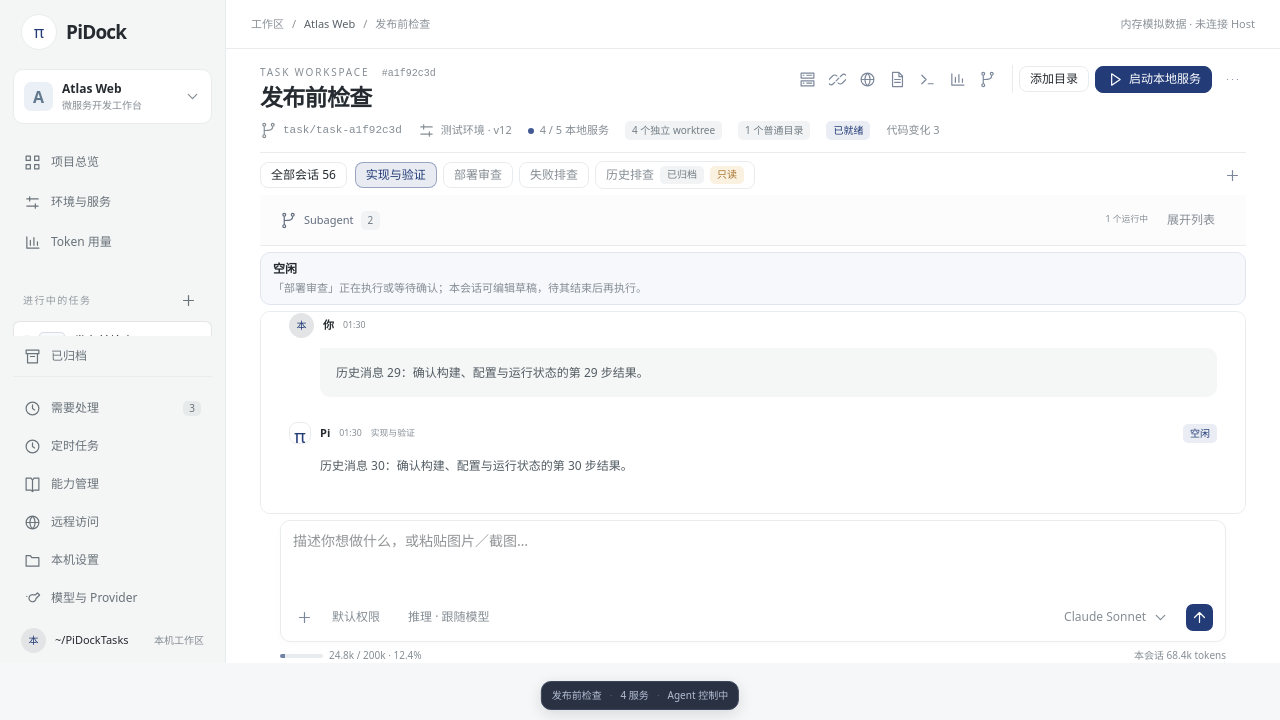
task header actionset › marks an open tool and the Subagent rail as pressed, and drives every local service
(page scrolled)
Expected: the heading "发布前检查" is shown, top-left (260, 81), bottom-right (372, 113)
Step 1. Click the button named "文件" → (898, 79), box top-left (884, 65), bottom-right (912, 93)
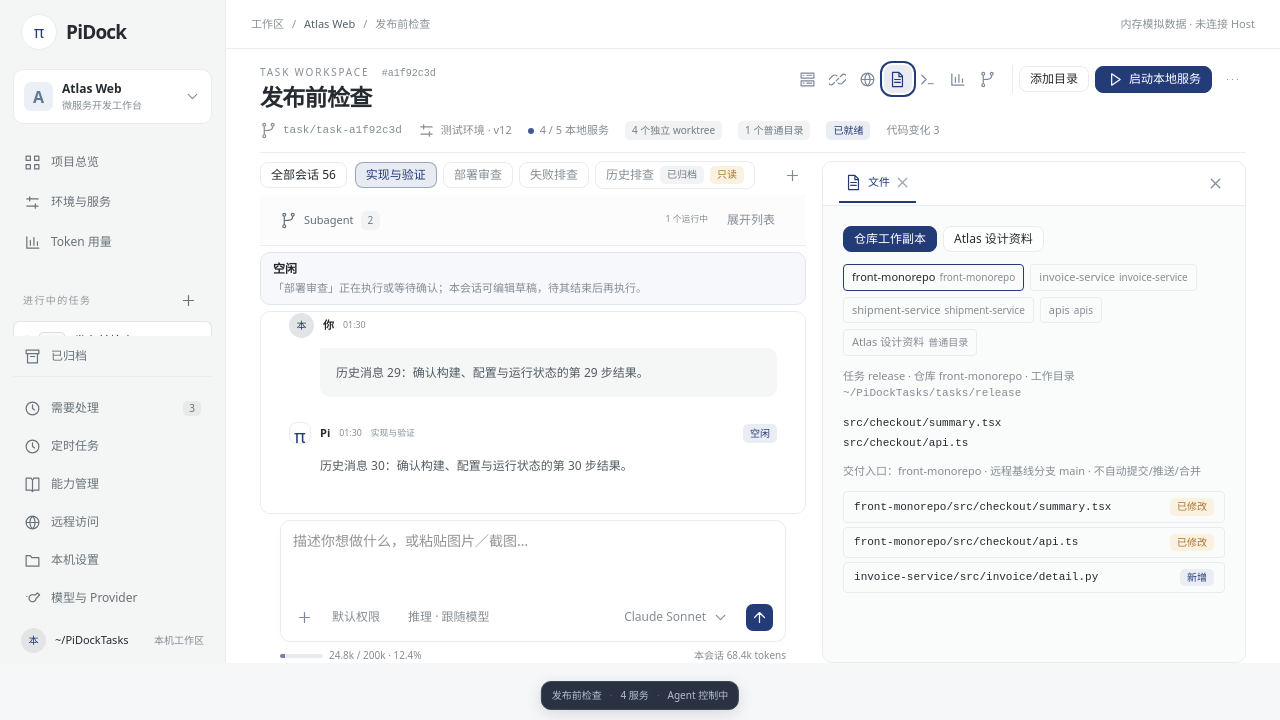
Expected: the button named "文件" is pressed, top-left (884, 65), bottom-right (912, 93)
Step 2. Click the button "启动本地服务" → (1154, 79), box top-left (1095, 66), bottom-right (1212, 93)
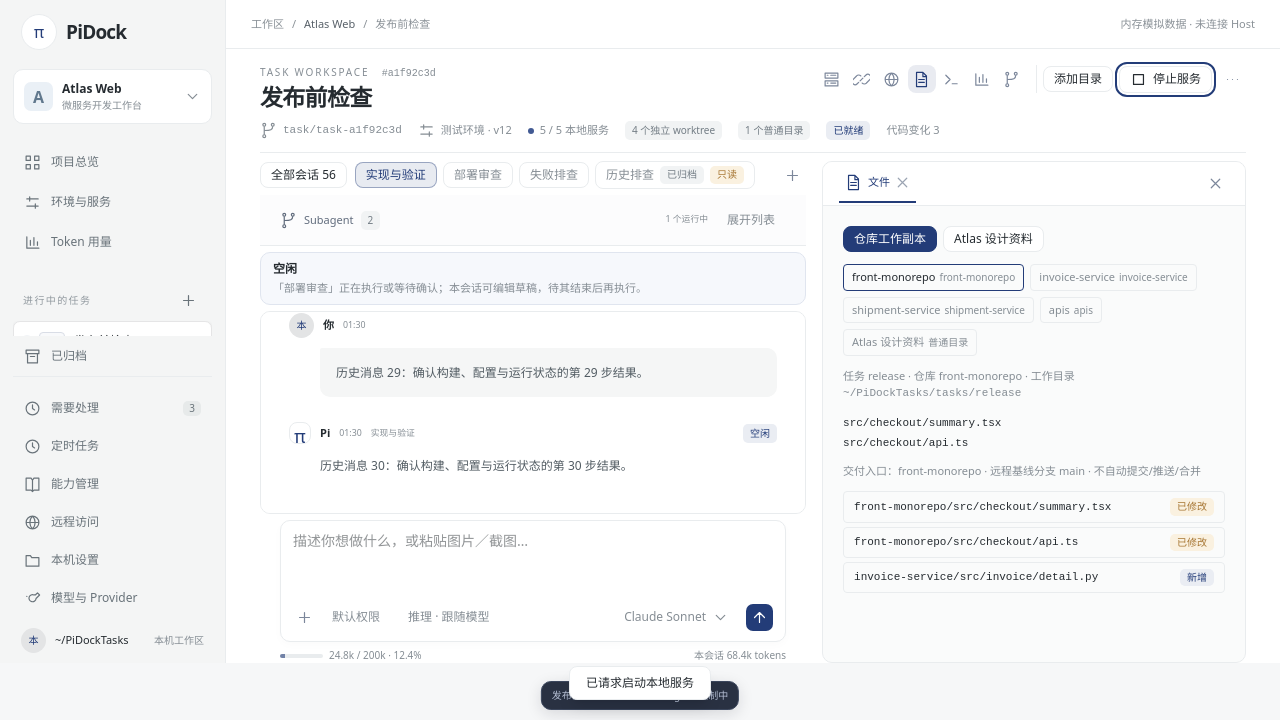
Step 3. Click the button "停止服务" → (1166, 79), box top-left (1119, 66), bottom-right (1212, 93)
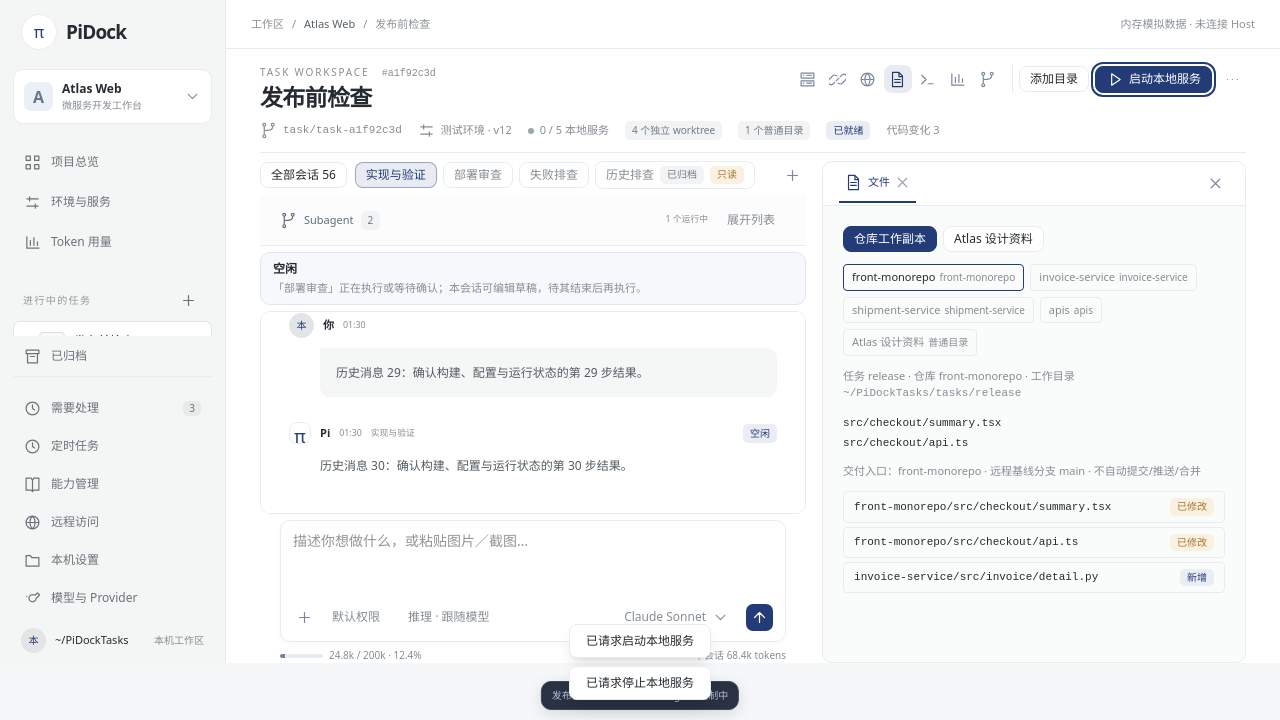
Expected: the button "启动本地服务" is shown, top-left (1095, 66), bottom-right (1212, 93)
